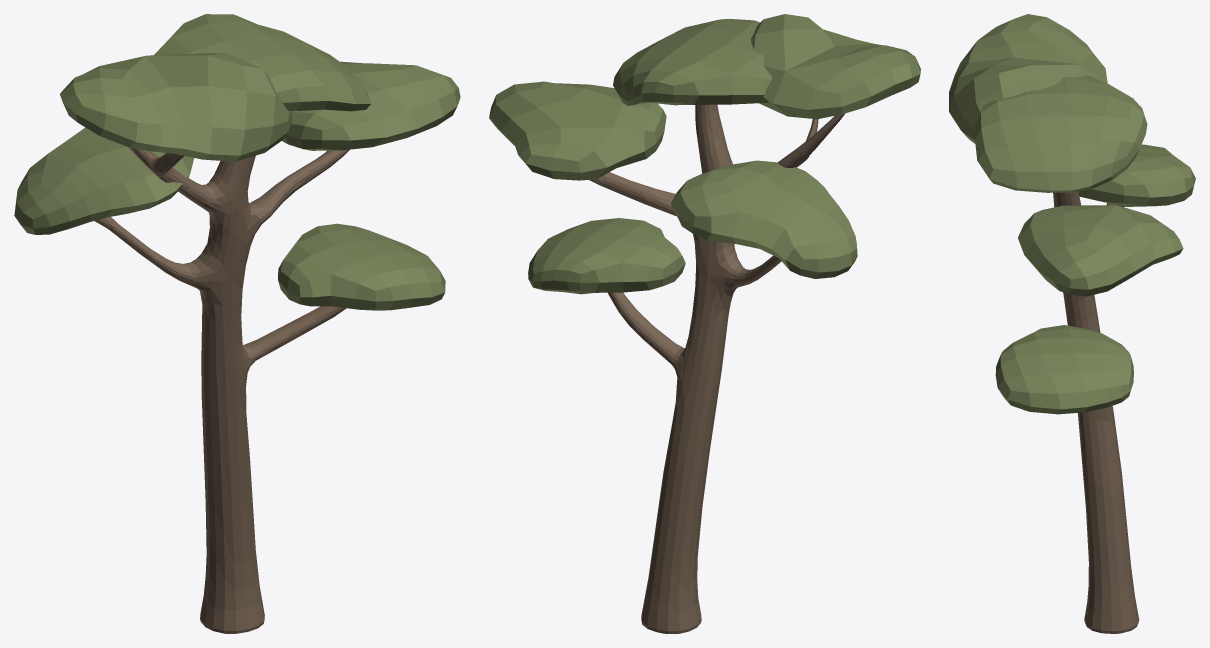
Rendered from tree-8.fbx.
3 views of the same model, side by side, from view 1: azimuth 30°, elevation 25°; view 2: azimuth 150°, elevation 25°; view 3: azimuth 270°, elevation 25° (orthographic). The views are drawn at different scales.
Visible parts, largest first — view 1: Cube.023, Cube.026, Cube.024, Cube.027, Cube.071, Cube.028; view 2: Cube.023, Cube.027, Cube.028, Cube.026, Cube.071, Cube.024; view 3: Cube.071, Cube.023, Cube.028, Cube.024, Cube.026, Cube.027.
Part boxes in pixels (x1,y1,x2,y2): Cube.023: (95,147,349,633); Cube.026: (60,53,292,161); Cube.024: (278,223,445,310); Cube.027: (14,127,194,234); Cube.071: (154,14,371,111); Cube.028: (282,61,460,150); Cube.023: (589,104,845,633); Cube.027: (670,160,857,278); Cube.028: (489,81,666,180); Cube.026: (750,14,920,119); Cube.071: (613,19,771,105); Cube.024: (528,218,685,294); Cube.071: (975,75,1147,192); Cube.023: (1053,191,1139,633); Cube.028: (1018,205,1183,296); Cube.024: (995,325,1133,414); Cube.026: (949,14,1107,143); Cube.027: (1078,144,1195,206).
Size of the model in its own units: 2633 by 3709 by 1568.
